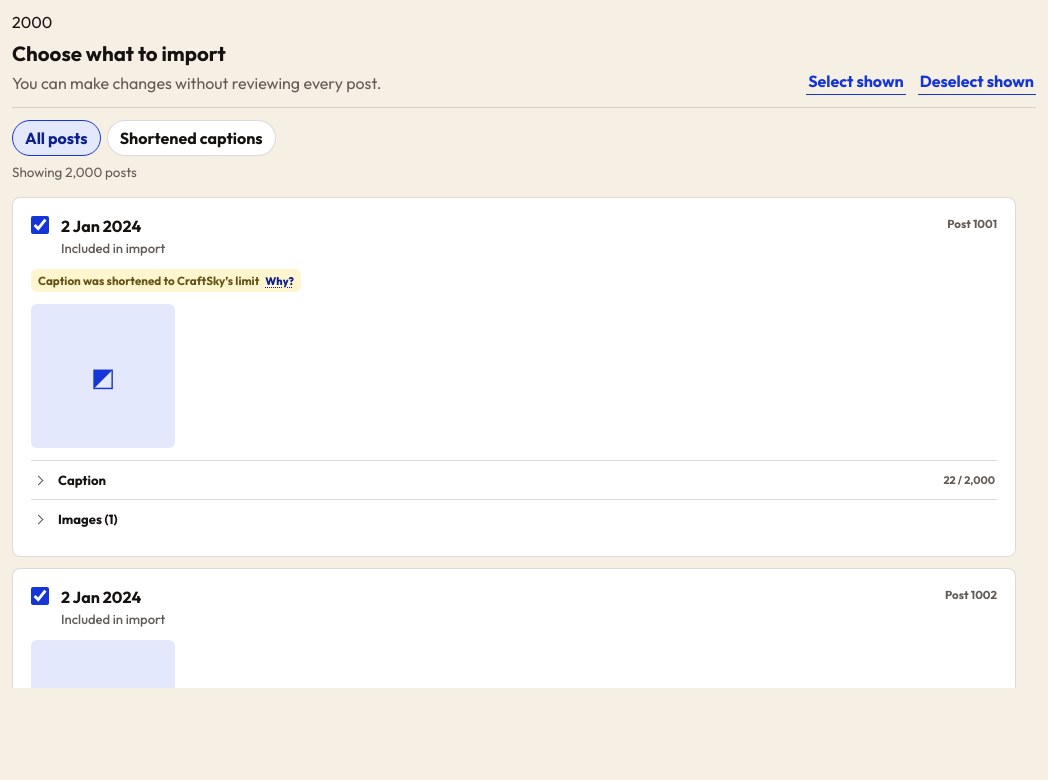
it: virtualized review lists (AT-004, AC-006) › keeps thousands of importable posts bounded while preserving filtering and controls
This screenshot has width=1048, height=780.
(page scrolled)
Expected: the text "Showing 2,000 posts" is shown, [12,164,137,180]
Click the button "Shortened captions" at [191, 138], box [107,120,276,156]
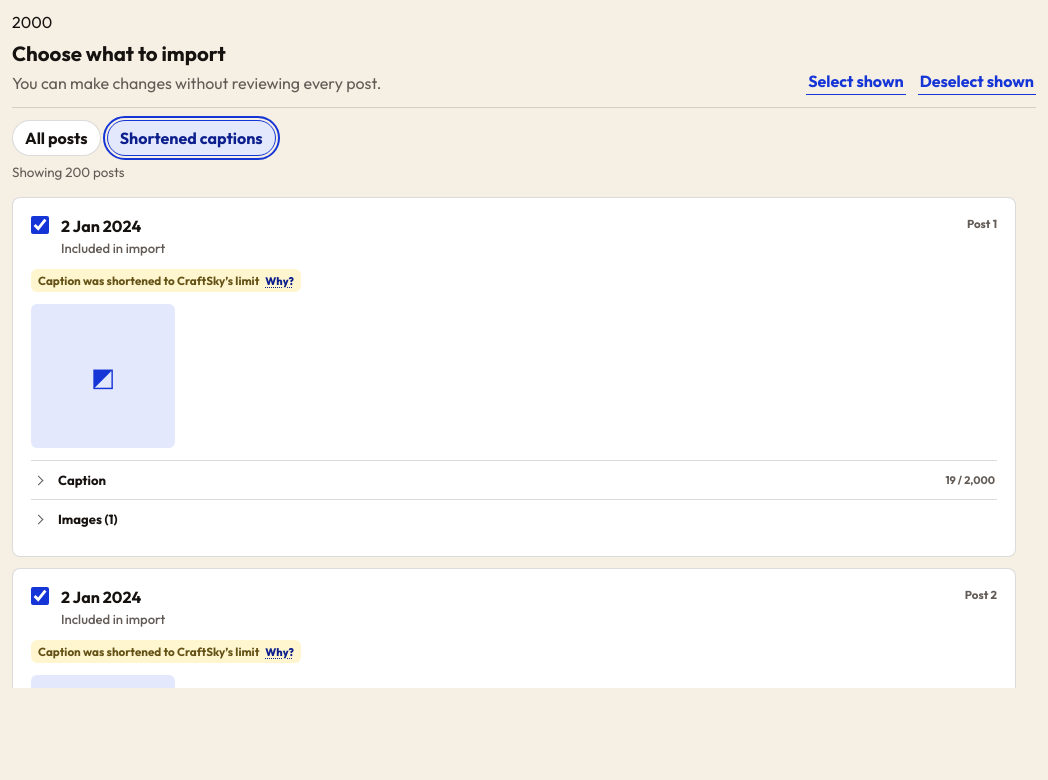
Expected: the text "Showing 200 posts" is shown, [12,164,125,180]
Click the button "Deselect shown" at [977, 82], box [918,68,1036,95]
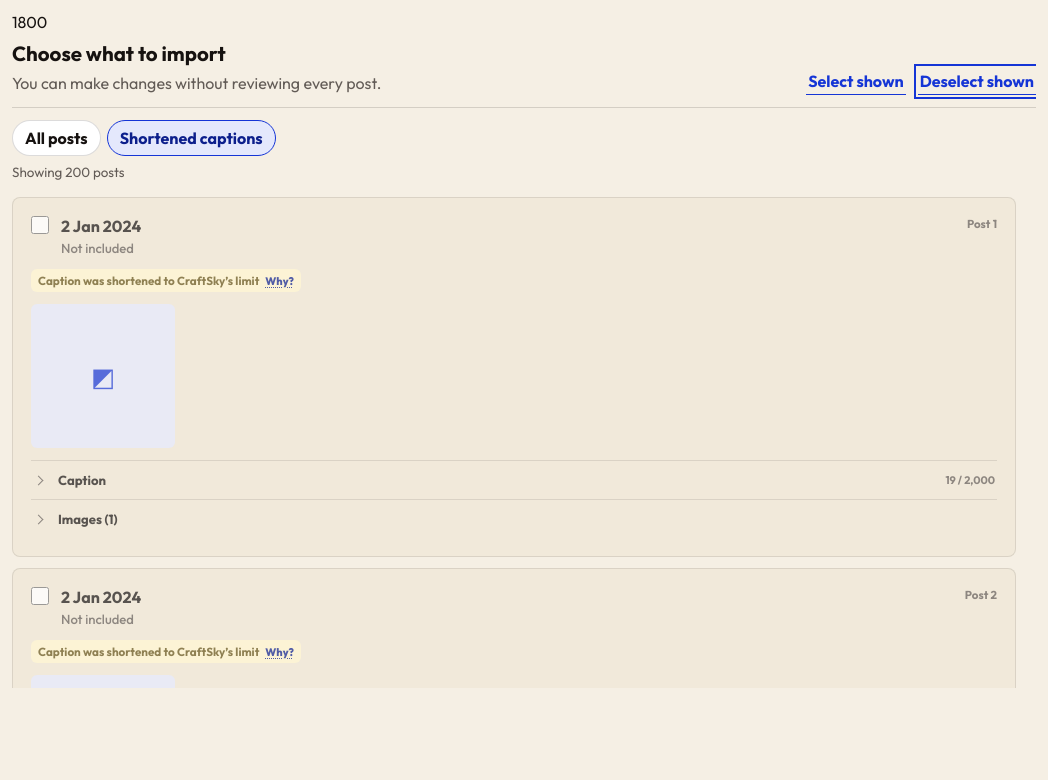
Expected: the text with test id "selected-count" reads "1800", [12,12,47,32]
Click the 1st checkbox labelled "2 Jan 2024 Not included" at [40, 225], box [31,216,49,234]
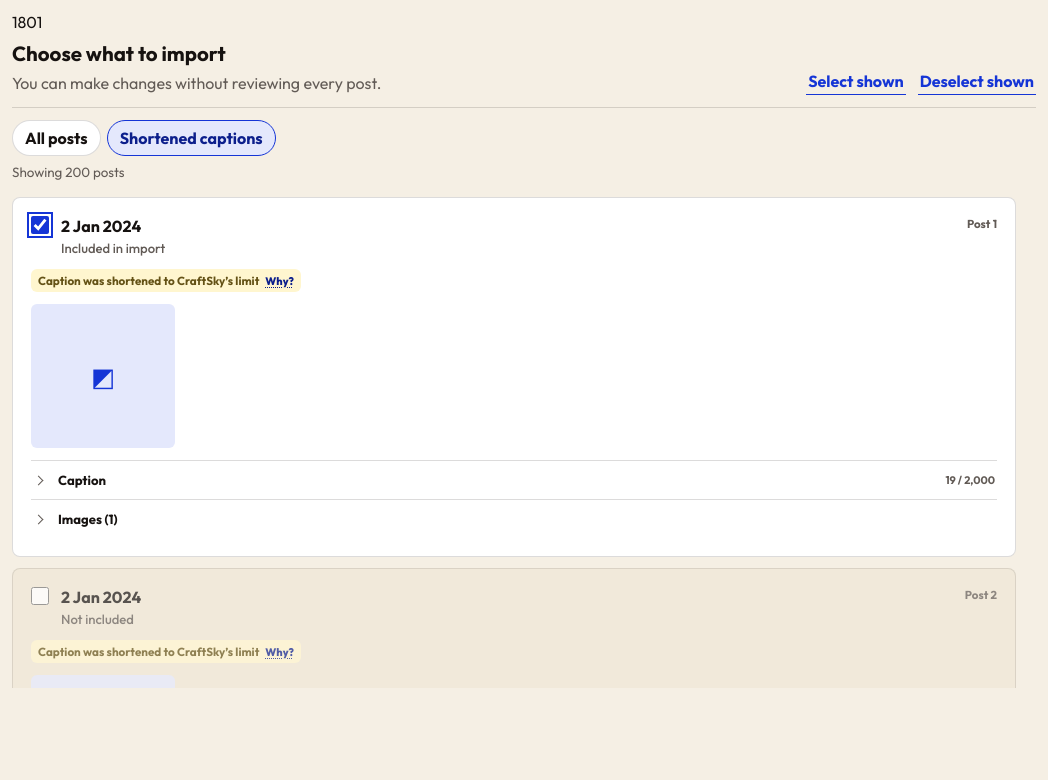
Expected: the text with test id "selected-count" reads "1801", [12,12,42,32]
